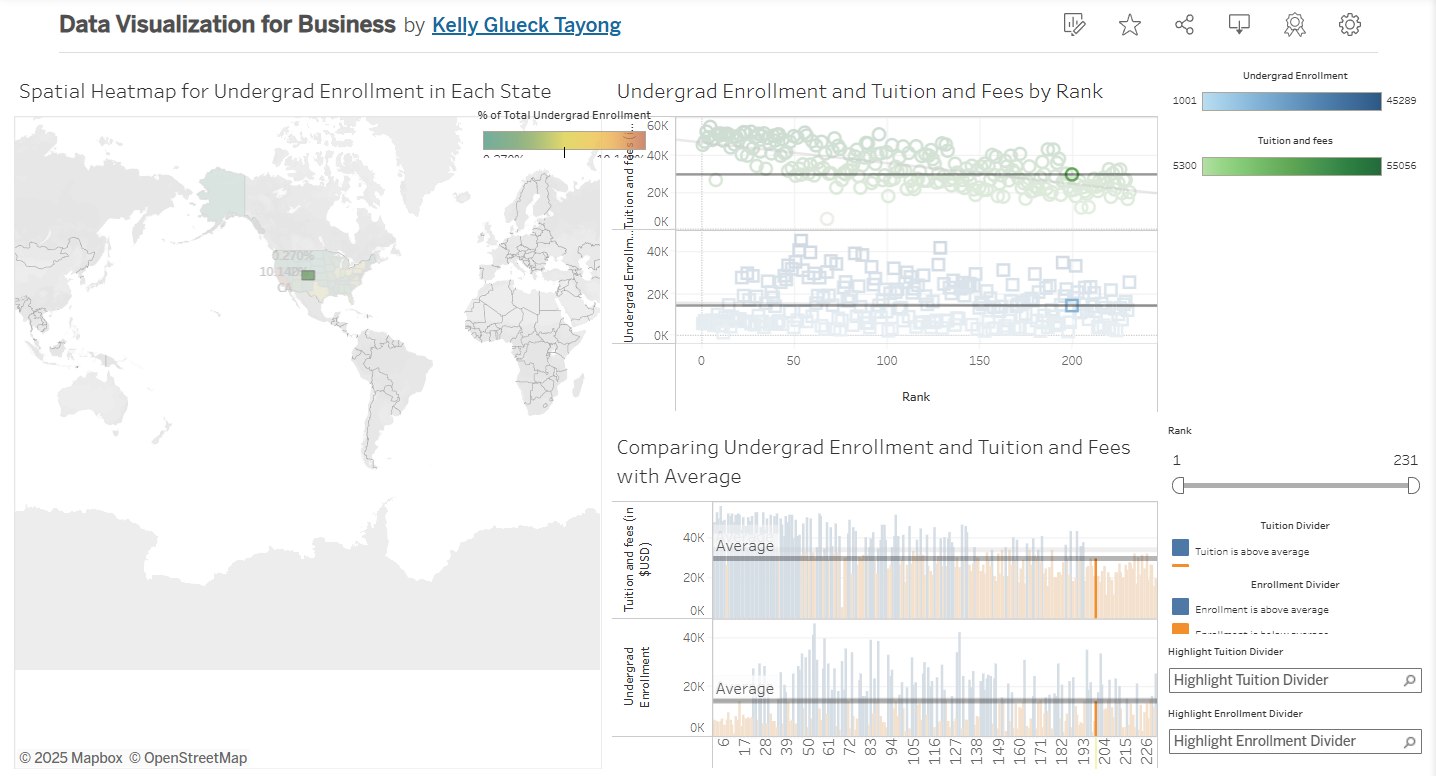

This screenshot's page, from the dashboard's own definition file:
{"tool":"tableau","page":{"name":"Dashboard 1","canvas":[1000,1000],"units":"permille","ordinal":0},"visuals":[{"type":"worksheet","title":"Spatial Heatmap for Undergrad Enrollment in Each State","mark":"Automatic","box":[4.2,9.6,454.8,980.8]},{"type":"worksheet","title":"Scatter Plot","mark":"Automatic","rows":["Tuition and fees","Undergrad Enrollment"],"cols":["Rank"],"box":[459.1,9.6,424.1,490.4]},{"type":"legend","title":"Scatter Plot","param":"[federated.0s14y4r1008rjx1d9ys2y040es5l].[none:Undergrad Enrollment:qk]","box":[883.1,9.6,112.7,90.1]},{"type":"legend","title":"Spatial Heatmap for Undergrad Enrollment in Each State","param":"[federated.0s14y4r1008rjx1d9ys2y040es5l].[pcto:sum:Undergrad Enrollment:qk:2]","box":[333.2,73.3,120.1,69.7]},{"type":"legend","title":"Scatter Plot","param":"[federated.0s14y4r1008rjx1d9ys2y040es5l].[none:Tuition and fees:qk]","box":[883.1,99.7,112.7,400.2]},{"type":"worksheet","title":"Bar Chart","mark":"Bar","rows":["Tuition and fees","Undergrad Enrollment"],"cols":["Rank"],"box":[459.1,500,424.1,490.4]},{"type":"filter","title":"Bar Chart","param":"[federated.0s14y4r1008rjx1d9ys2y040es5l].[none:Rank:qk]","box":[883.1,500,112.7,129.8]},{"type":"legend","title":"Bar Chart","param":"[federated.0s14y4r1008rjx1d9ys2y040es5l].[usr:Calculation_1485906402865463296:nk","box":[883.1,629.8,112.7,81.7]},{"type":"legend","title":"Bar Chart","param":"[federated.0s14y4r1008rjx1d9ys2y040es5l].[usr:Calculation_1485906402896998401:nk","box":[883.1,711.5,112.7,92.5]},{"type":"highlighter","title":"Bar Chart","param":"[federated.0s14y4r1008rjx1d9ys2y040es5l].[usr:Calculation_1485906402865463296:nk","box":[883.1,804.1,112.7,84.1]},{"type":"highlighter","title":"Bar Chart","param":"[federated.0s14y4r1008rjx1d9ys2y040es5l].[usr:Calculation_1485906402896998401:nk","box":[883.1,888.2,112.7,102.2]}]}

Visuals, with their boxes on the dashboard's canvas, which has no fixed pixel size, in thousandths of its width and height (x1, y1, x2, y2). These are canvas units, not pixel positions in the 1436x776 screenshot, which may show the page scaled, cropped or inside an application window:
"Spatial Heatmap for Undergrad Enrollment in Each State" worksheet: region(4, 10, 459, 990)
"Scatter Plot" worksheet: region(459, 10, 883, 500)
"Scatter Plot" legend: region(883, 10, 996, 100)
"Spatial Heatmap for Undergrad Enrollment in Each State" legend: region(333, 73, 453, 143)
"Scatter Plot" legend: region(883, 100, 996, 500)
"Bar Chart" worksheet (Bar marks): region(459, 500, 883, 990)
"Bar Chart" filter: region(883, 500, 996, 630)
"Bar Chart" legend: region(883, 630, 996, 712)
"Bar Chart" legend: region(883, 712, 996, 804)
"Bar Chart" highlighter: region(883, 804, 996, 888)
"Bar Chart" highlighter: region(883, 888, 996, 990)
